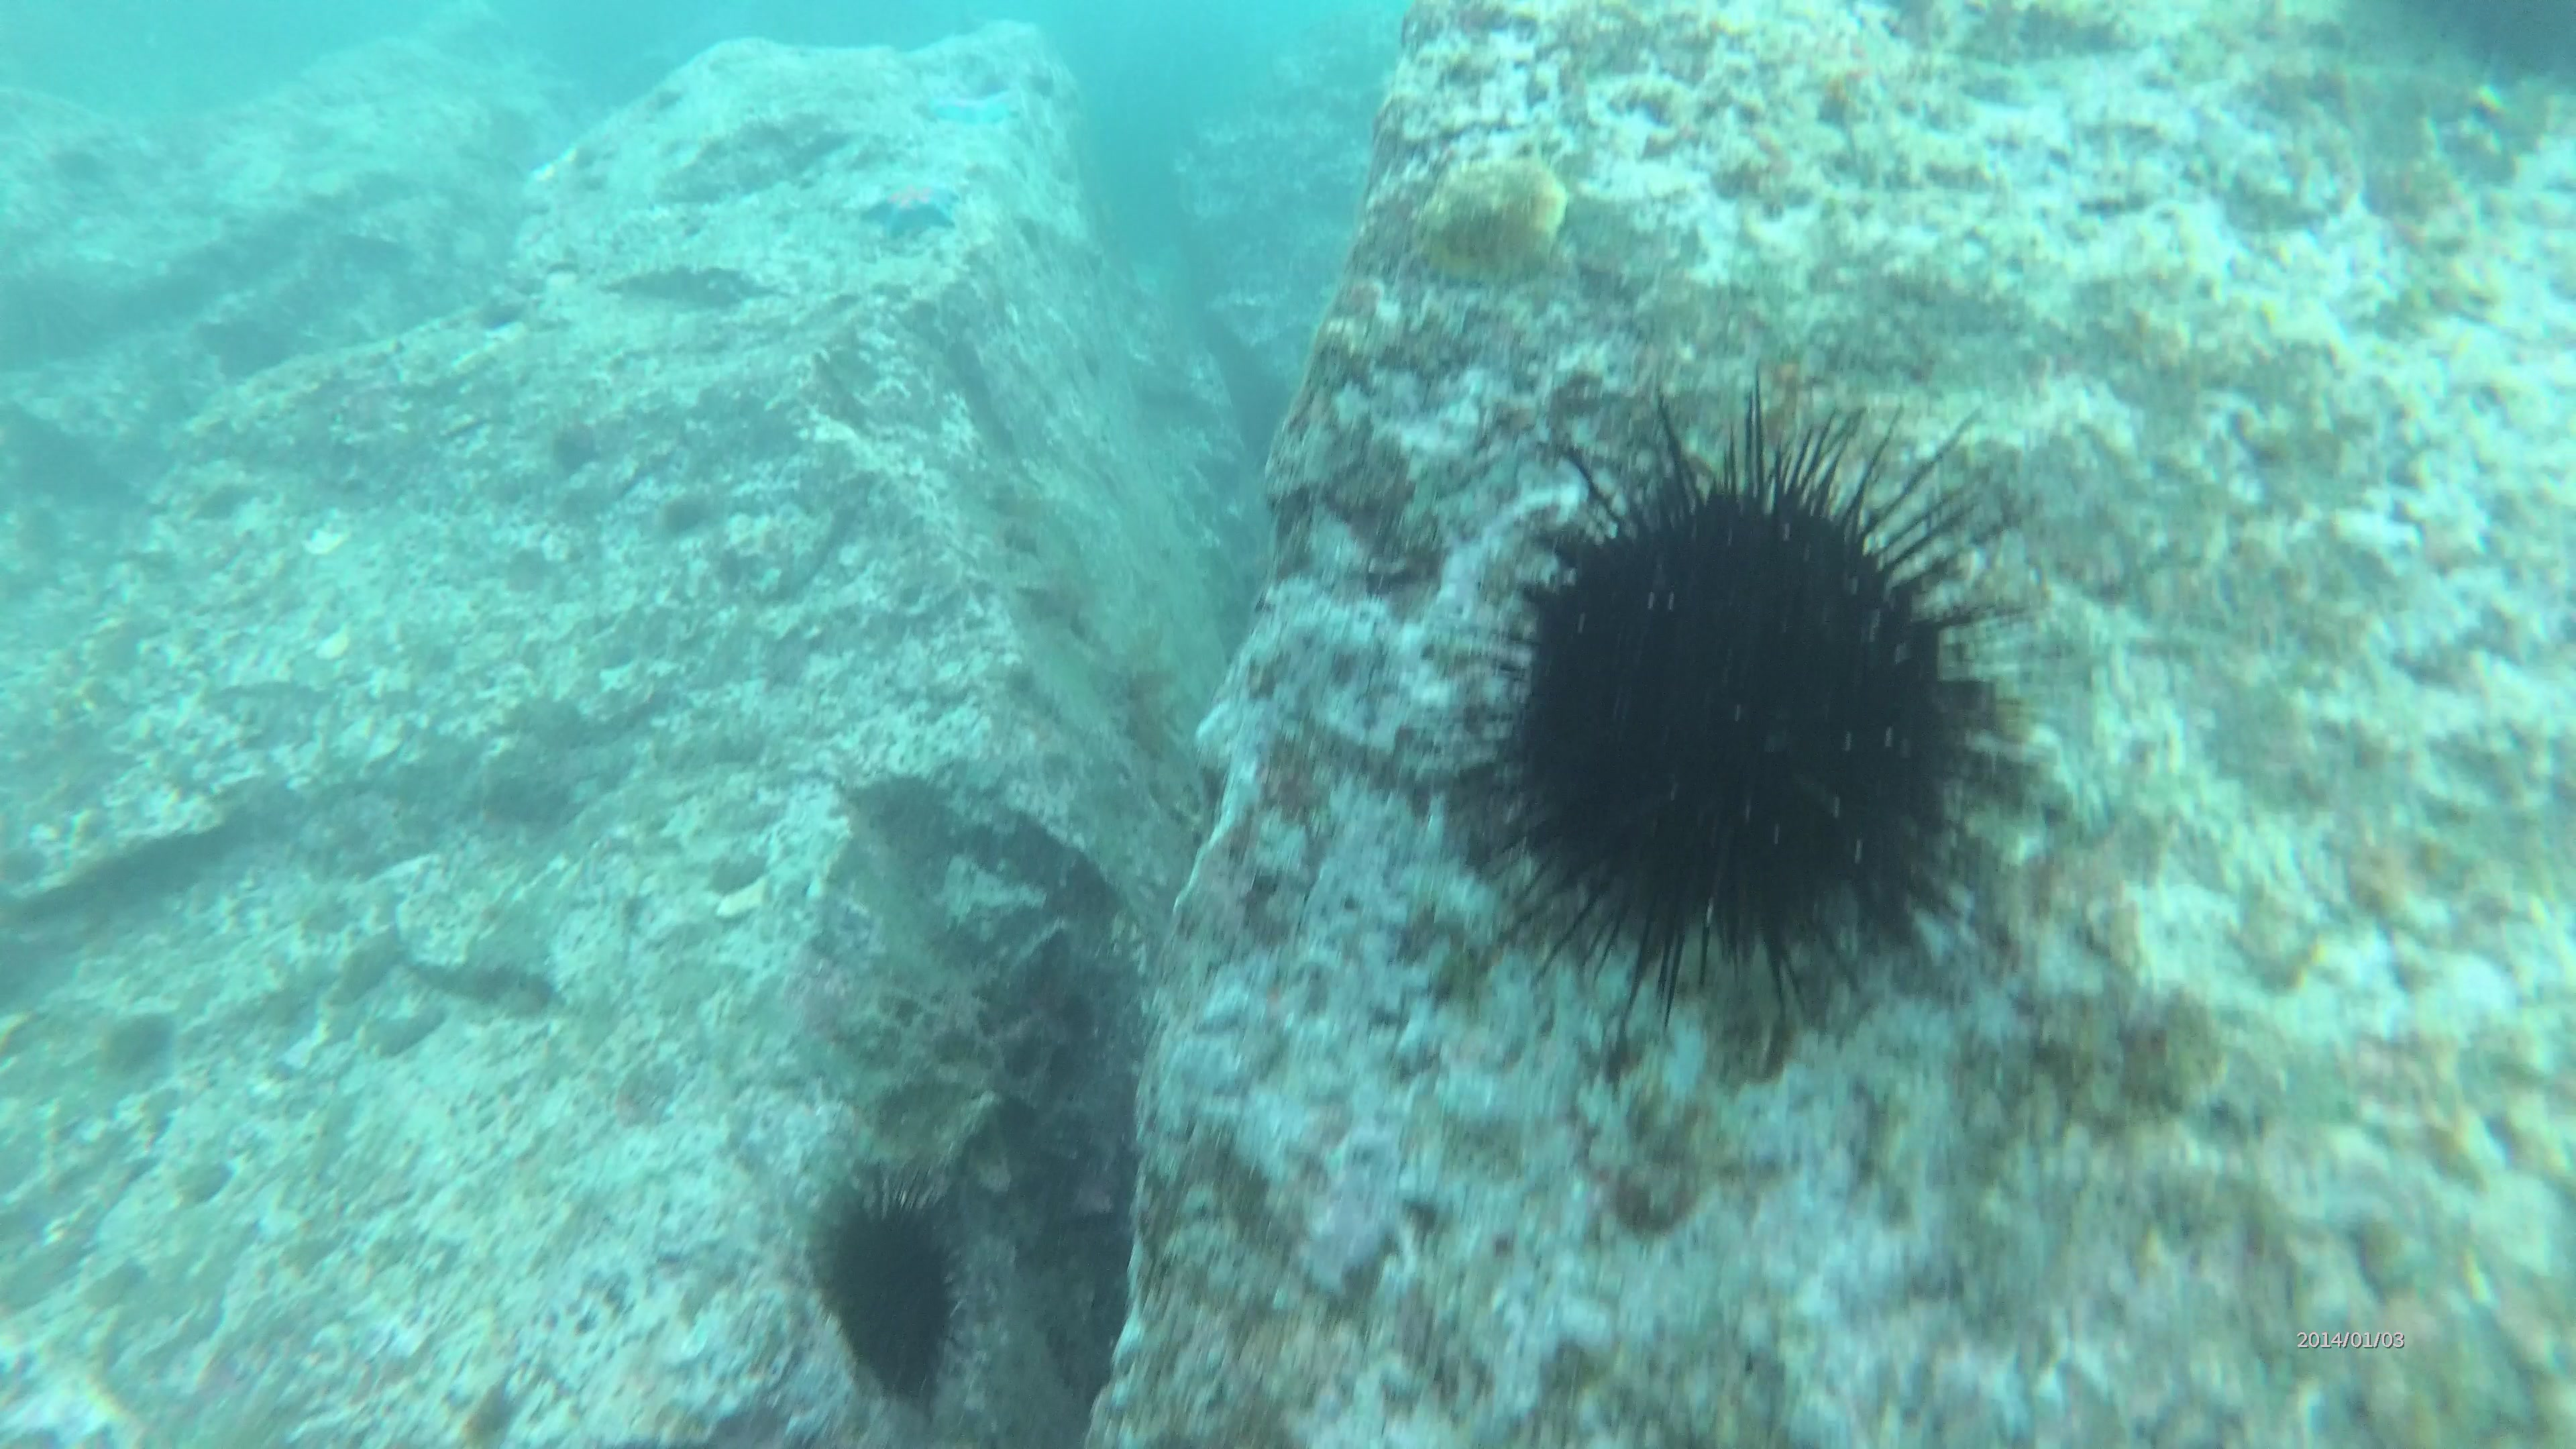echinus: (1437, 354, 2024, 1065), (816, 1159, 977, 1412)
scallop: (1415, 154, 1585, 280)
